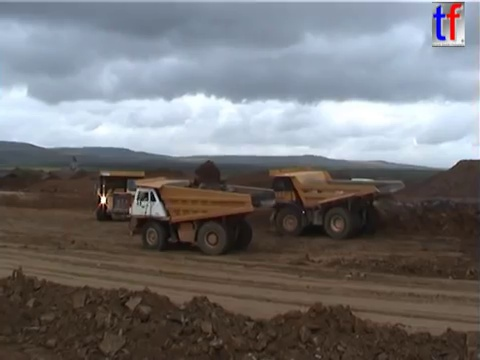truck: (125, 174, 275, 255), (266, 164, 405, 240), (91, 168, 151, 222)
